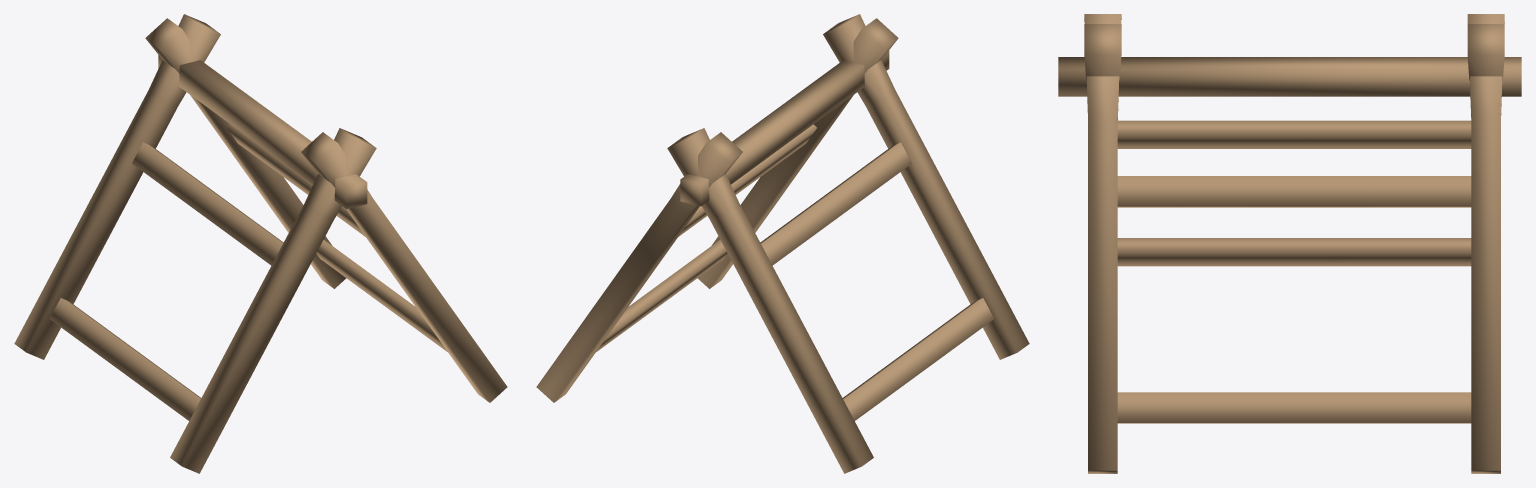
File: kenney_survival-kit__tent.fbx
3 views of the same model, side by side, from view 1: azimuth 30°, elevation 25°; view 2: azimuth 150°, elevation 25°; view 3: azimuth 270°, elevation 25° (orthographic). The views are drawn at different scales.
Parts seen in each view (by area): view 1: kenney_survival-kit__tent__meadow_wood; view 2: kenney_survival-kit__tent__meadow_wood; view 3: kenney_survival-kit__tent__meadow_wood.
Part boxes in pixels (box(x1,y1,x2,y2)): kenney_survival-kit__tent__meadow_wood: box(14, 14, 507, 473); kenney_survival-kit__tent__meadow_wood: box(536, 14, 1029, 473); kenney_survival-kit__tent__meadow_wood: box(1058, 14, 1521, 473).
Bounding box in the file's own units: 2 × 1.75 × 2.
